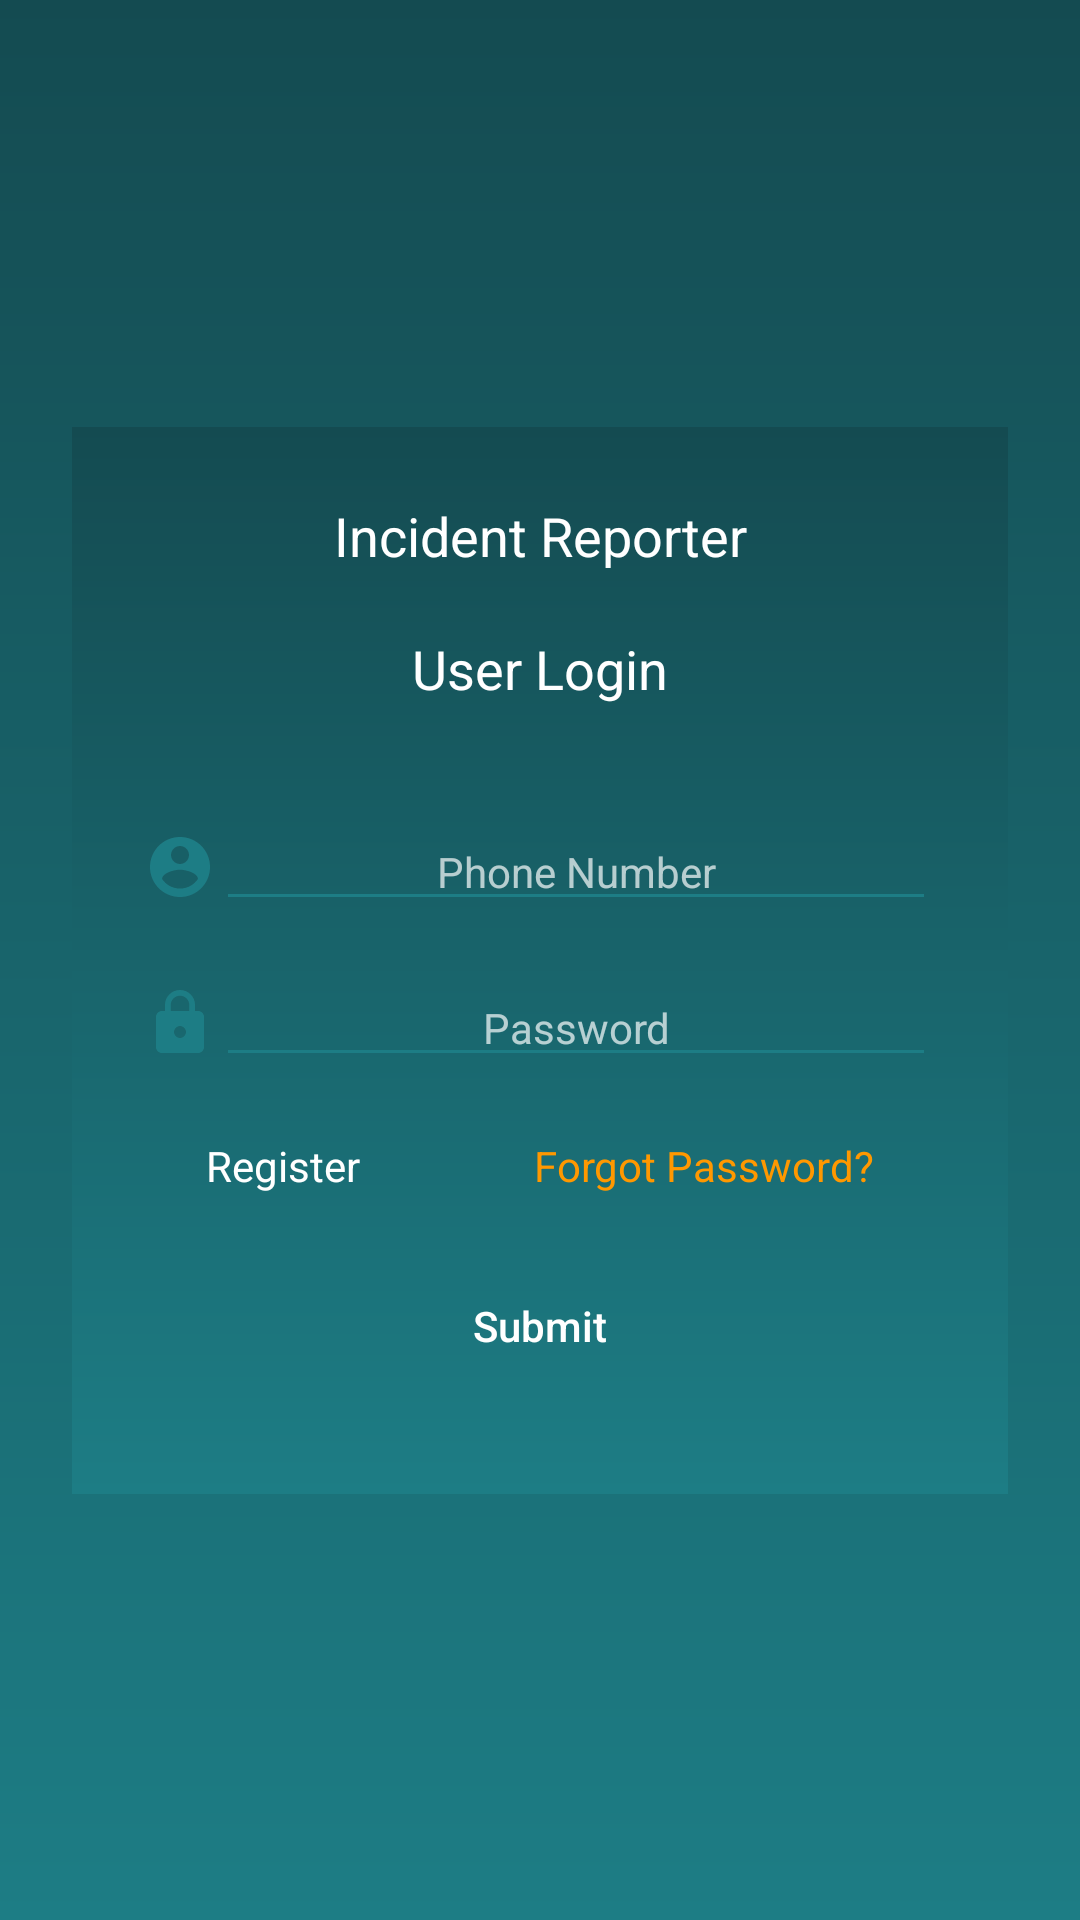

Named icons in this screenshot (1080*1920) and their centers, point (x, y):
account circle: point (180, 867)
